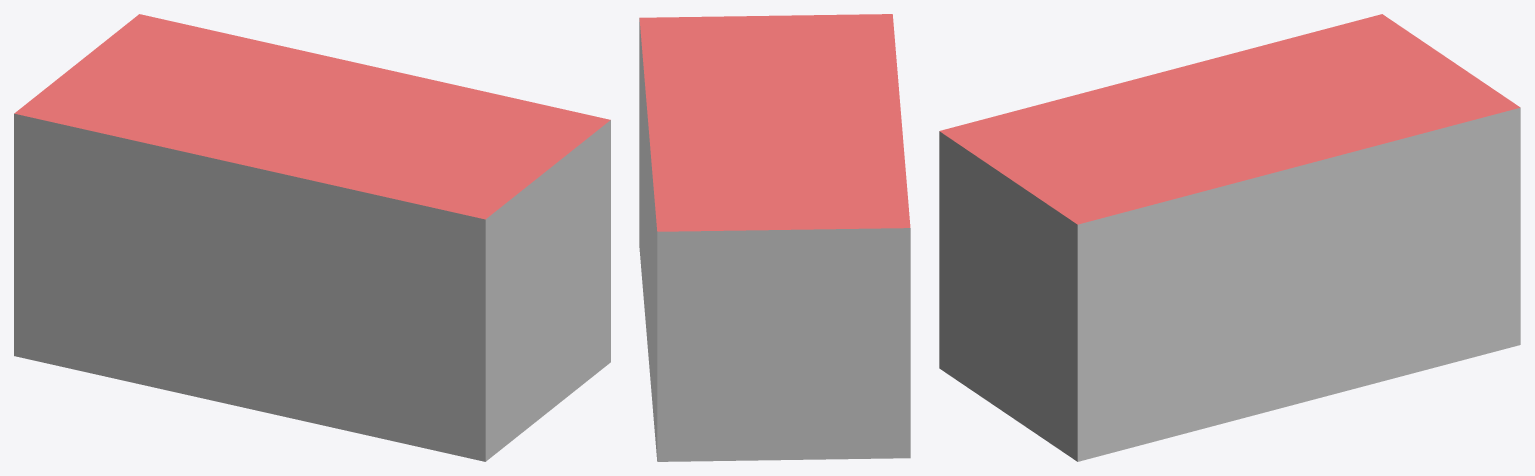
3 renders of one model, left to right at view 1: azimuth 30°, elevation 25°; view 2: azimuth 150°, elevation 25°; view 3: azimuth 270°, elevation 25°, orthographic. The views are drawn at different scales.
Visible parts, largest first — view 1: Z_UP; view 2: Z_UP; view 3: Z_UP.
Boxes of the visible parts, bbox=[...] form: Z_UP: bbox=[14, 14, 610, 461]; Z_UP: bbox=[639, 14, 910, 461]; Z_UP: bbox=[939, 14, 1520, 461].
Bounding box in the file's own units: 24.8 × 13.03 × 28.94.
